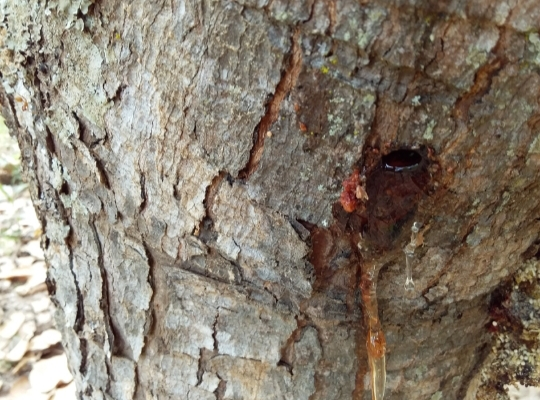Apate terebrans: (313, 202, 428, 400), (345, 137, 443, 197)
